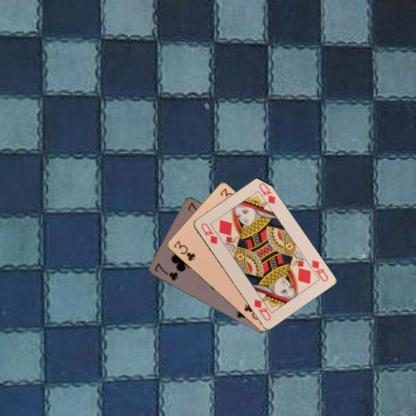3c: (171, 238, 196, 262)
7c: (152, 260, 180, 283)
Qd: (304, 257, 329, 283), (198, 220, 218, 246)
